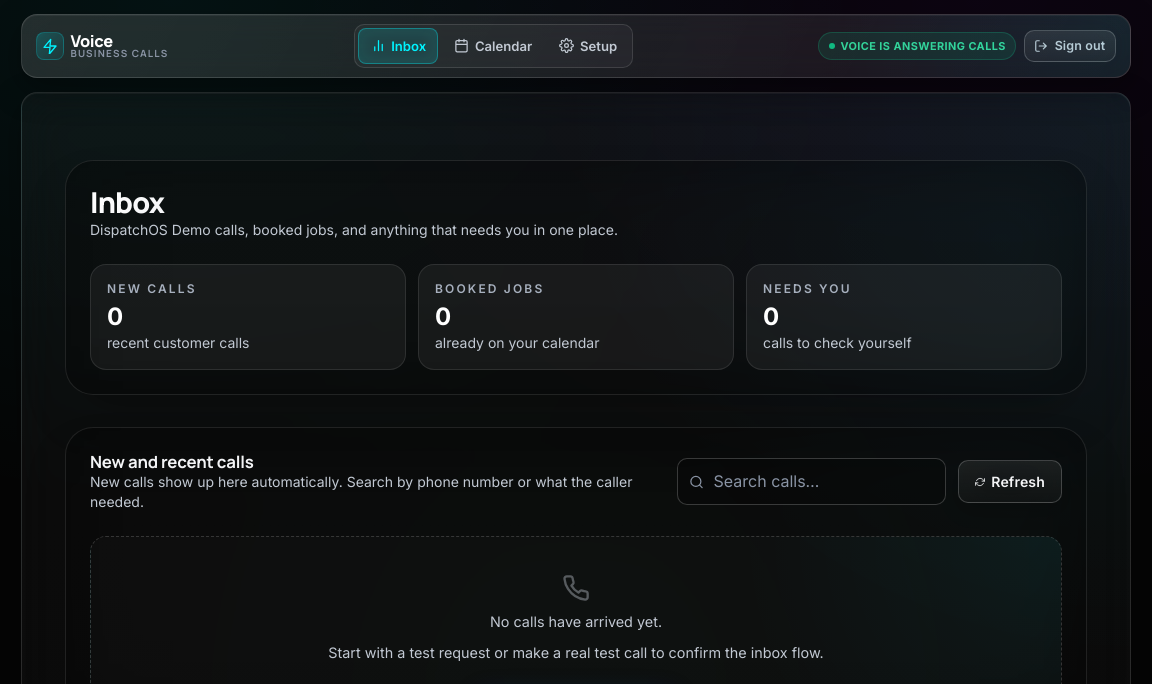
Test case: web app › signs out and returns to login
This screenshot has width=1152, height=684.
Expected: the heading "New and recent calls" is shown, x1=90 y1=450 x2=254 y2=473
Step 1. Click the button "Sign out" → (1070, 46), box x1=1024 y1=30 x2=1116 y2=62
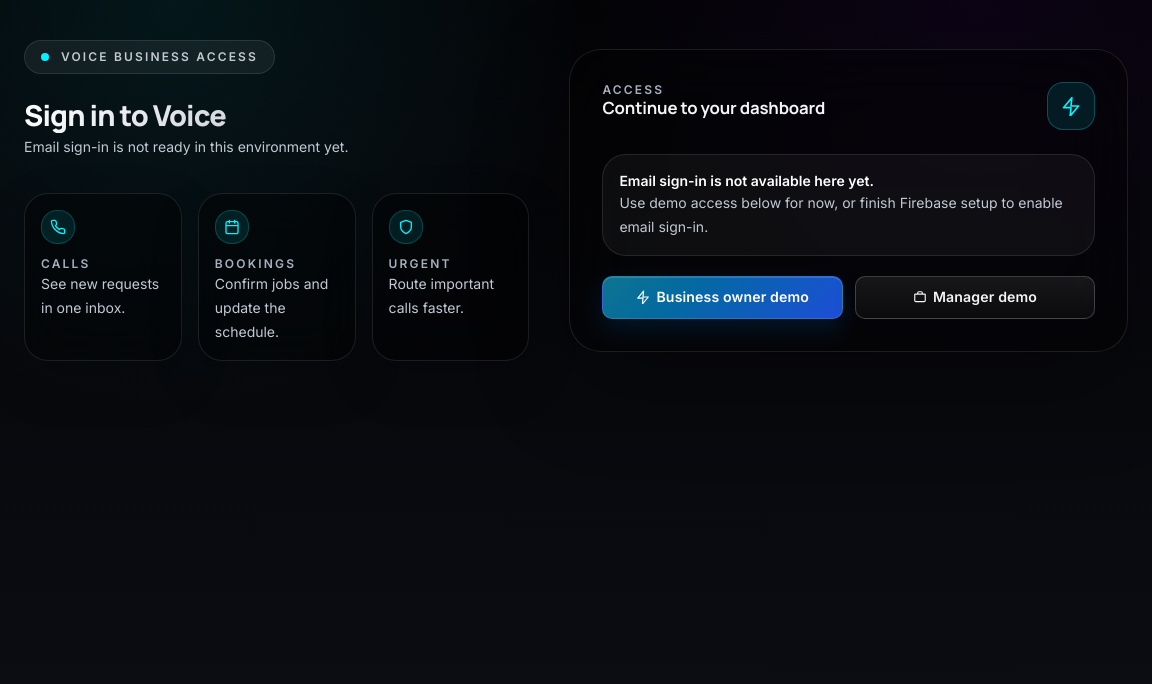
Result: the heading "Sign in to Voice" is shown at x1=24 y1=98 x2=529 y2=132
